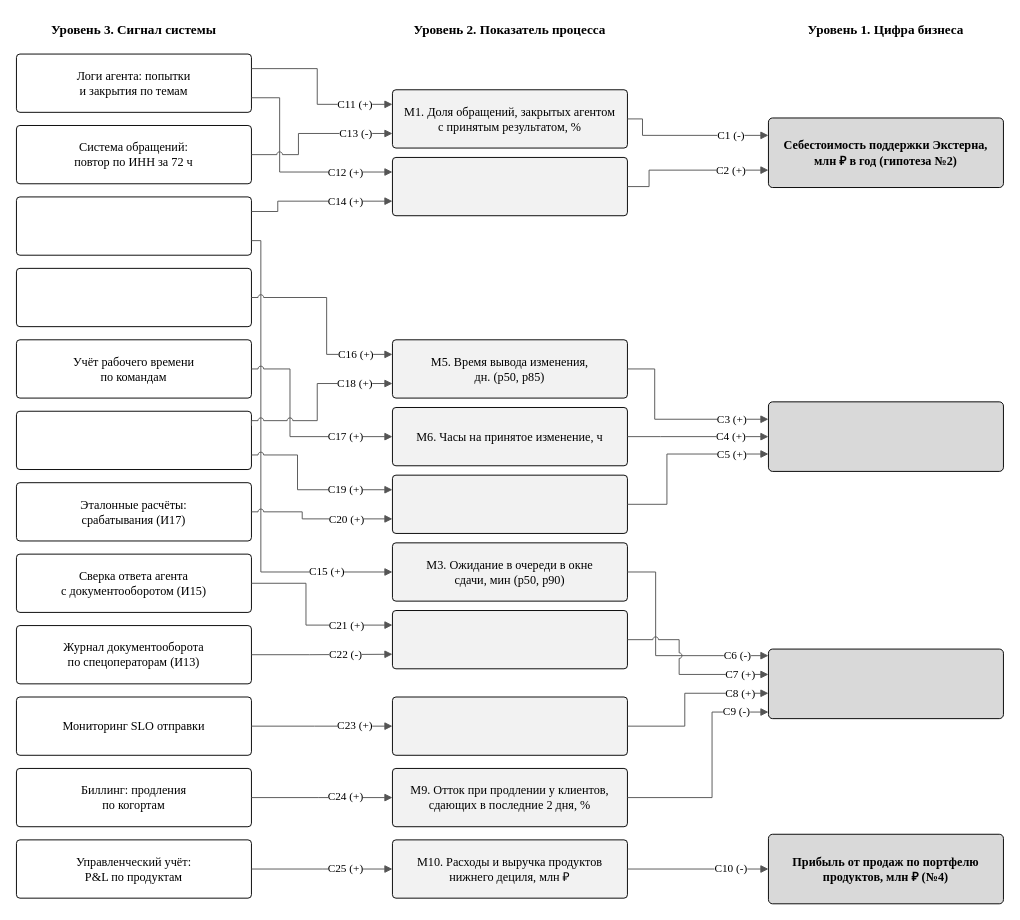
Image size: 1020x920. Some labels were removed from this diagram. Here are the shapes that lost their labels. From the top down, the centre of each, then its label:
At (x=509, y=186): "М2. Стоимость одного обращения, ₽".
At (x=133, y=225): "Телефония: время в очереди и разговора по часам".
At (x=133, y=297): "Трекер задач: время в статусах".
At (x=133, y=440): "Конвейер CI/CD: коммит, выкладка, откат".
At (x=885, y=436): "Себестоимость разработки: часы на принятое изменение (№3)".
At (x=509, y=503): "М7. Доля неудачных изменений с учётом правильности, %".
At (x=509, y=639): "М4. Доля ответов о статусе, совпавших с итогом, %".
At (x=885, y=683): "Выручка Экстерна, удержанная при продлении, % (№5)".
At (x=509, y=725): "М8. Доступность отправки в окне сдачи, %".
